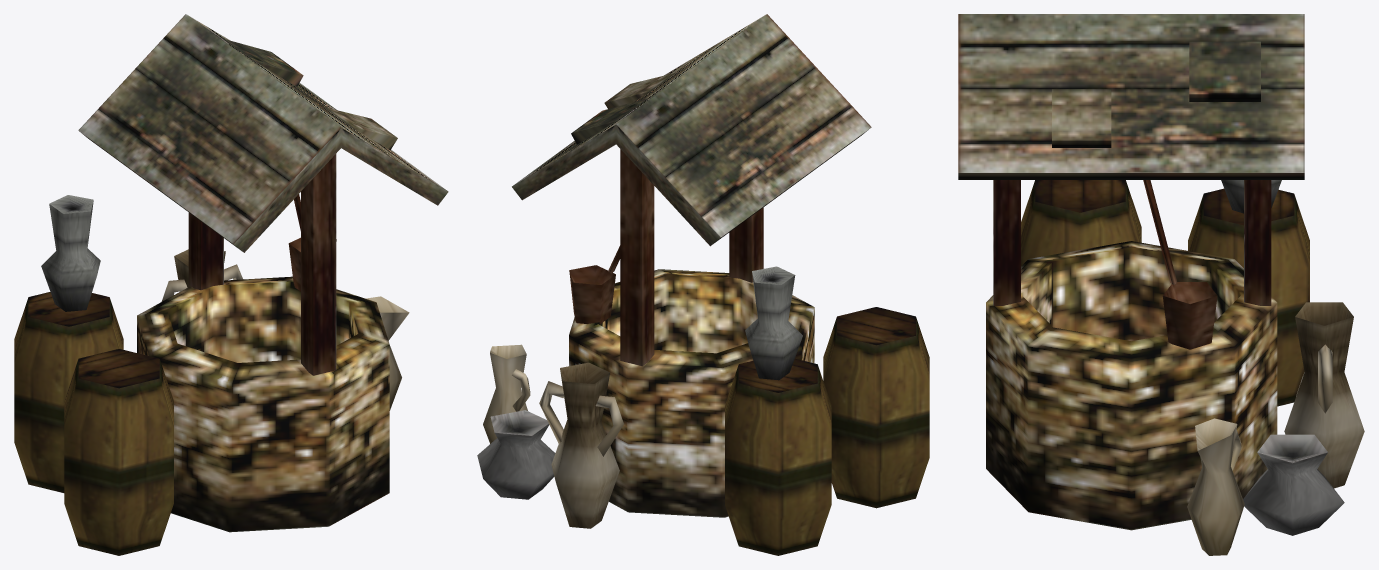
The model's file is Well01.obj.
3 renders of one model, left to right at view 1: azimuth 30°, elevation 25°; view 2: azimuth 150°, elevation 25°; view 3: azimuth 270°, elevation 25°, orthographic. The views are drawn at different scales.
Parts seen in each view (by area): view 1: Mesh_2, Mesh_0, Mesh_3, Mesh_1; view 2: Mesh_2, Mesh_0, Mesh_3, Mesh_1; view 3: Mesh_2, Mesh_3, Mesh_0, Mesh_1.
Boxes of the visible parts, x1,y1,x2,y2 form: Mesh_2: (78, 14, 448, 532); Mesh_0: (14, 298, 173, 555); Mesh_3: (41, 195, 409, 410); Mesh_1: (28, 292, 159, 388); Mesh_2: (512, 14, 871, 517); Mesh_0: (725, 317, 929, 555); Mesh_3: (477, 266, 802, 528); Mesh_1: (738, 307, 915, 392); Mesh_2: (958, 14, 1304, 530); Mesh_3: (1187, 180, 1364, 555); Mesh_0: (1021, 180, 1309, 406); Mesh_1: (1035, 180, 1294, 225).
Size of the model in its own units: 2.76 by 2.71 by 2.19.
4 materials, 4 textured.
